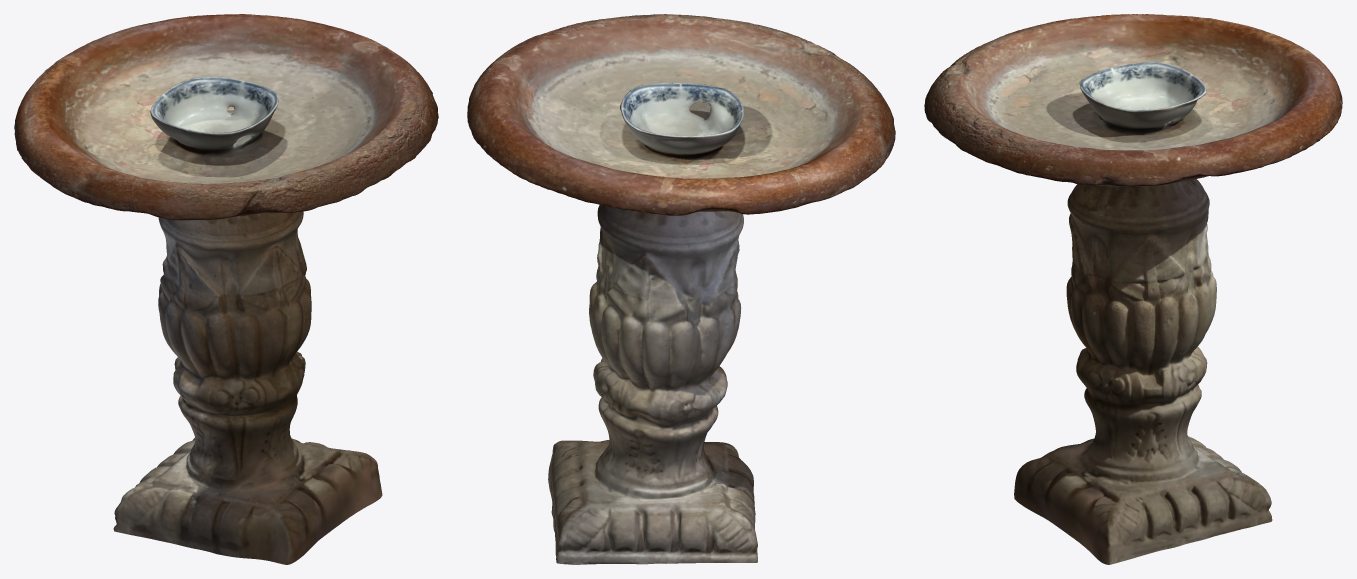
Rendered from Acquasantiera.glb.
3 views of the same model, side by side, from view 1: azimuth 30°, elevation 25°; view 2: azimuth 150°, elevation 25°; view 3: azimuth 270°, elevation 25° (orthographic). The views are drawn at different scales.
Visible parts, largest first — view 1: 3DModel; view 2: 3DModel; view 3: 3DModel.
Part boxes in pixels (x1,y1,x2,y2): 3DModel: [14, 14, 438, 564]; 3DModel: [467, 14, 895, 564]; 3DModel: [924, 14, 1342, 564].
Bounding box in the file's own units: 0.7075 × 0.7902 × 0.7082.
1 material, 1 textured.
